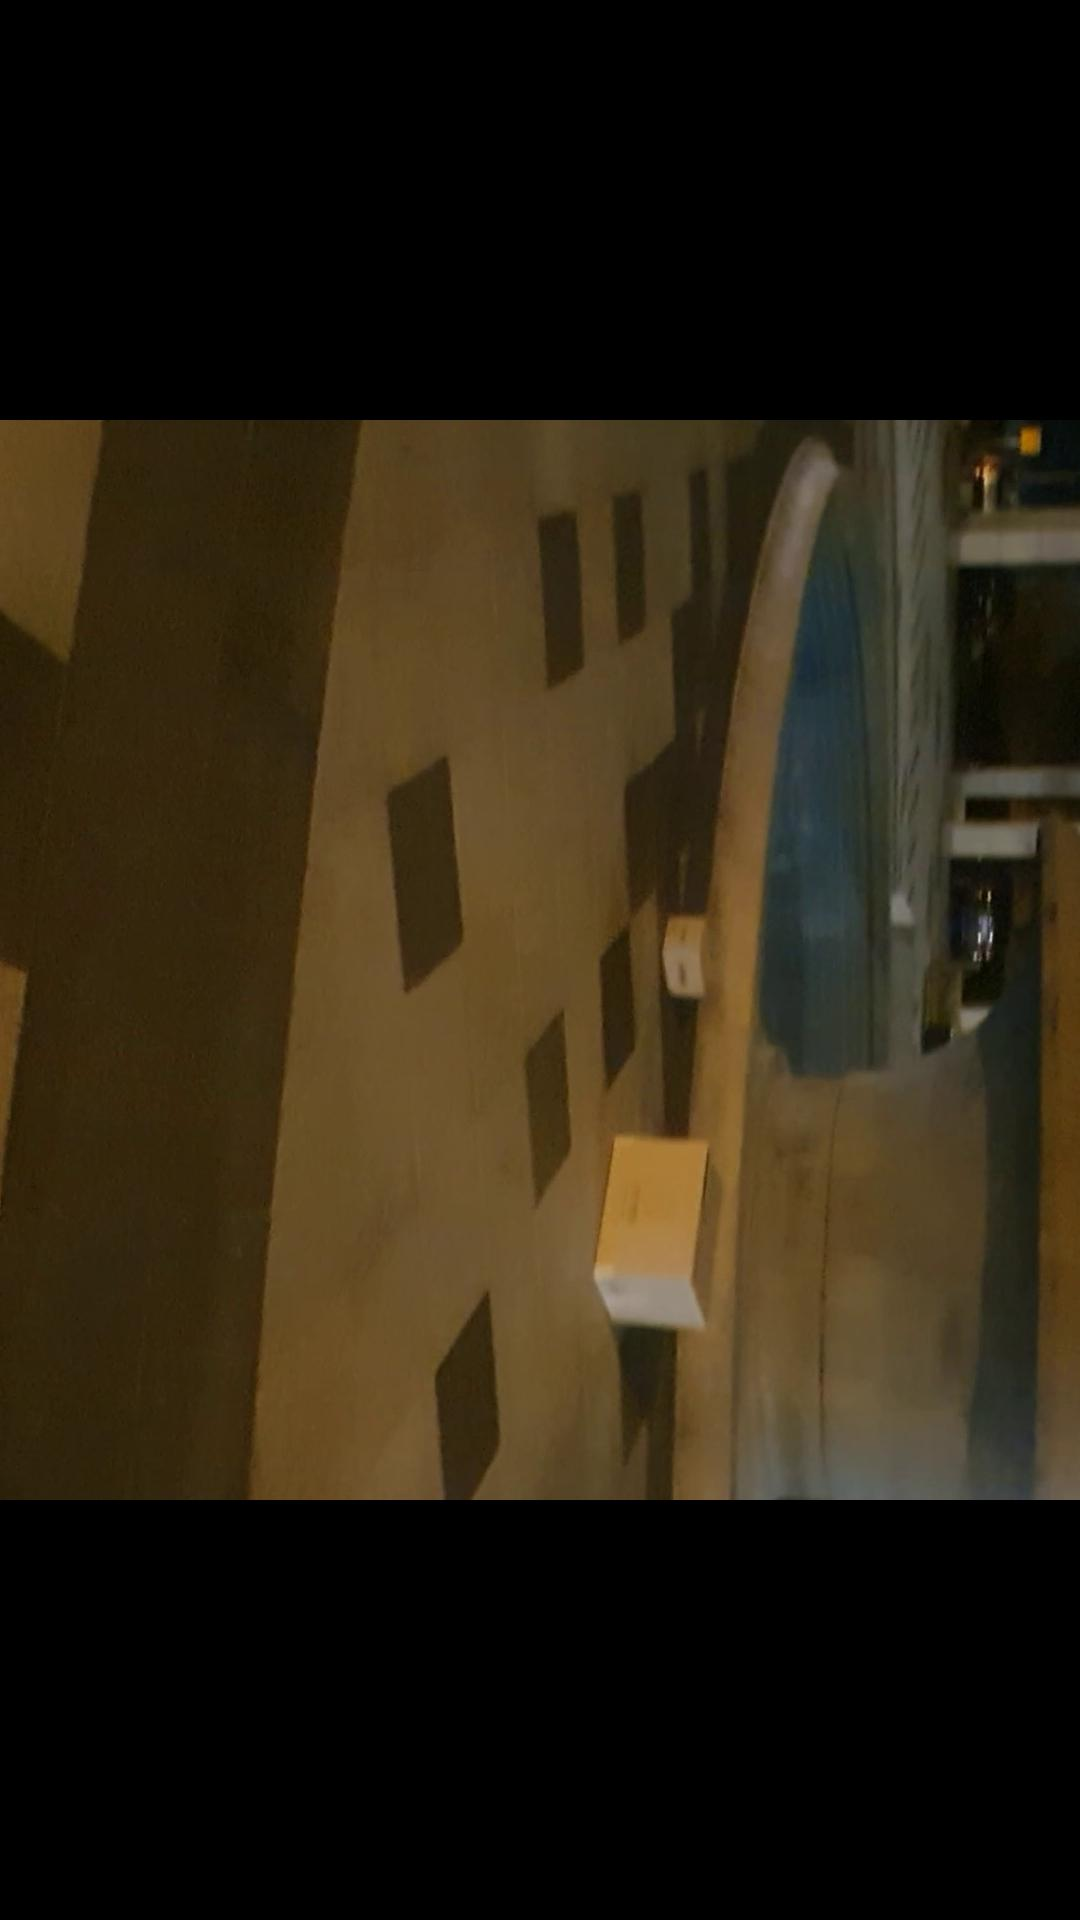Box: (585, 1124, 740, 1338), (645, 909, 715, 990)
